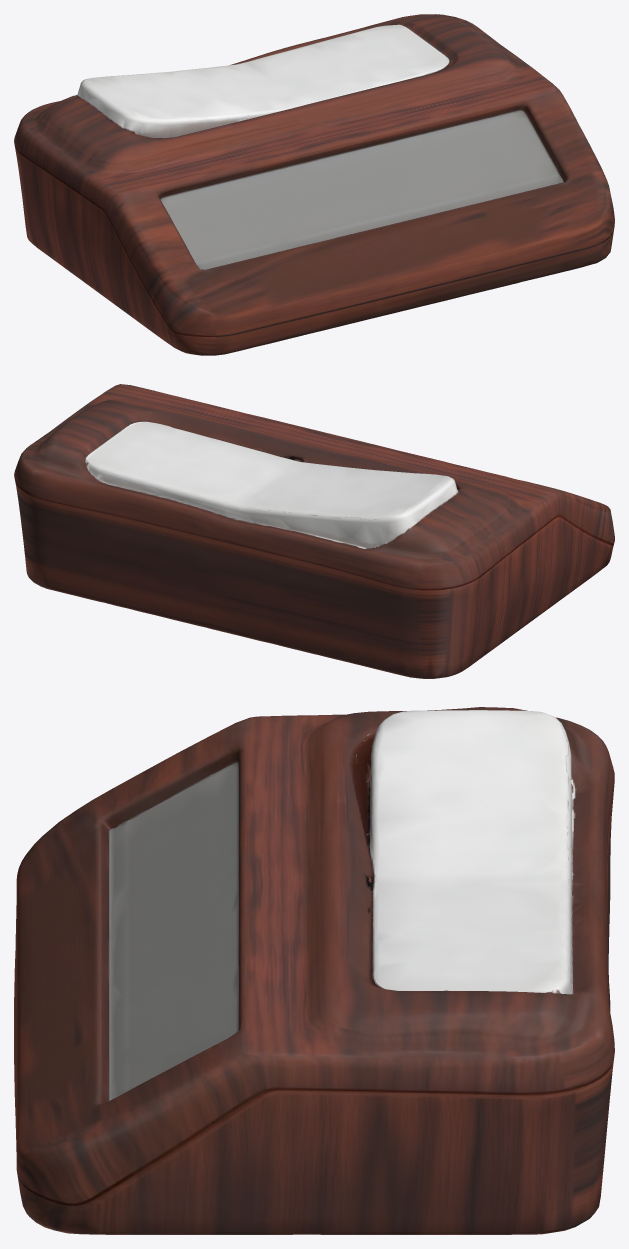
File: Meshy_AI_Wooden_Display_Stand_0130075016_texture.fbx
The picture shows the model from 3 angles, top to bottom: view 1: azimuth 30°, elevation 25°; view 2: azimuth 150°, elevation 25°; view 3: azimuth 270°, elevation 25°; orthographic projection. The views are drawn at different scales.
Parts seen in each view (by area): view 1: Mesh_0.001; view 2: Mesh_0.001; view 3: Mesh_0.001.
Boxes of the visible parts, left/top/right/bottom form: Mesh_0.001: left=14, top=14, right=614, bottom=355; Mesh_0.001: left=14, top=384, right=614, bottom=678; Mesh_0.001: left=14, top=707, right=614, bottom=1234.
Size of the model in its own units: 60.23 by 20 by 43.21.
1 material, 1 textured.
